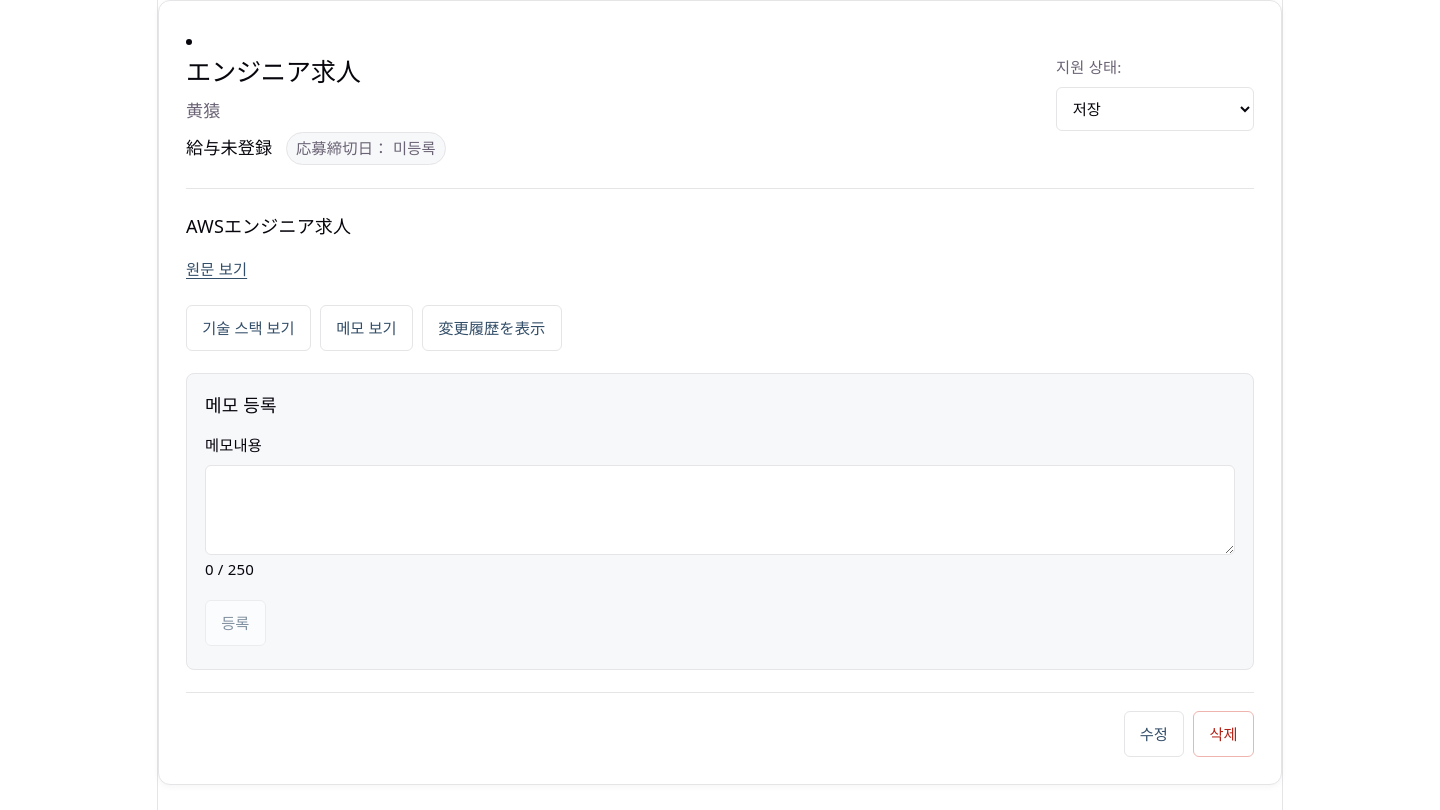
Test case: skills › 기술이 있는 공고의 기술 스택 보기 버튼을 누르면 기술 스택을 볼 수 있다
Click the button "기술 스택 보기" at point(248, 328), box [186,305,311,351]
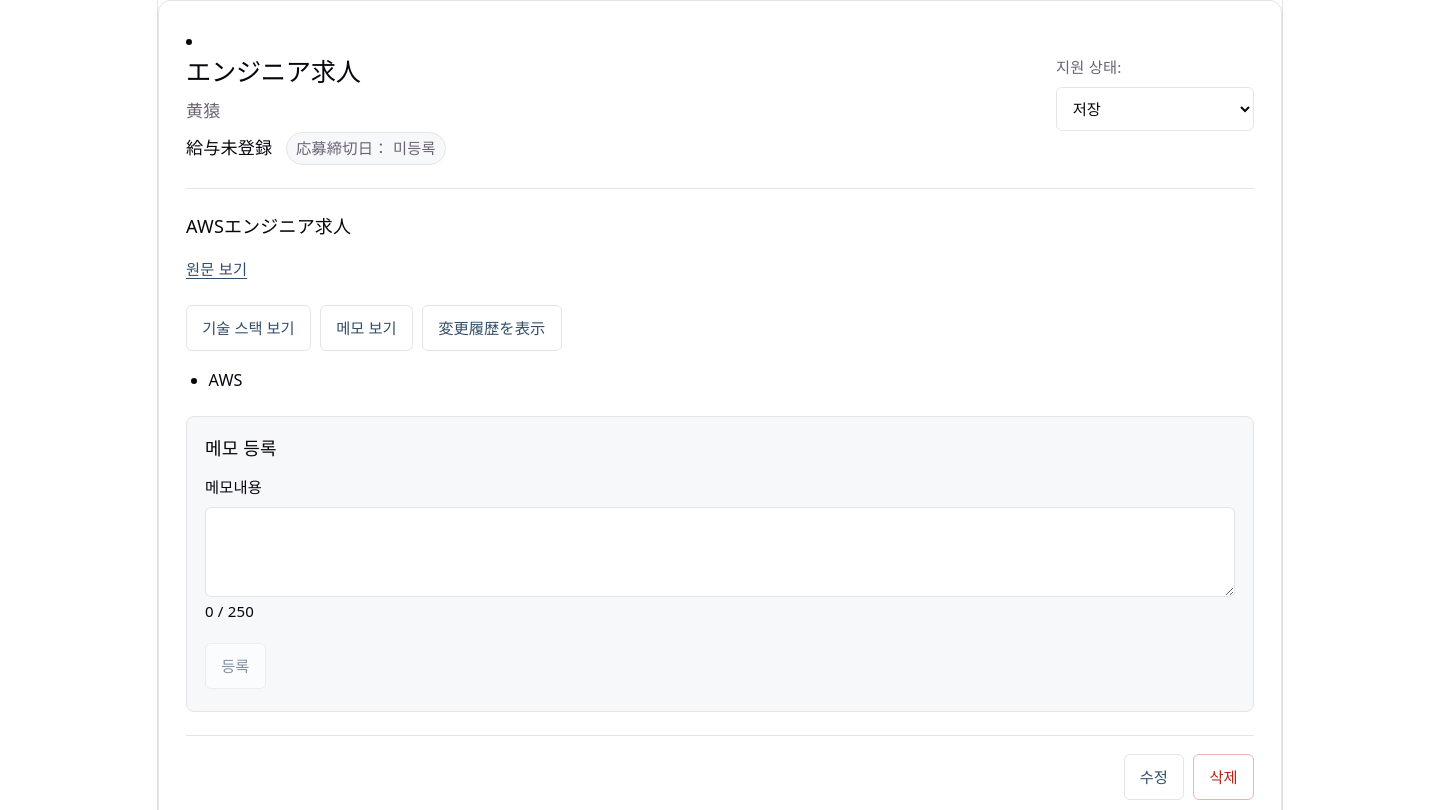
Result: the list item "AWS" is shown at [208,367,243,393]
